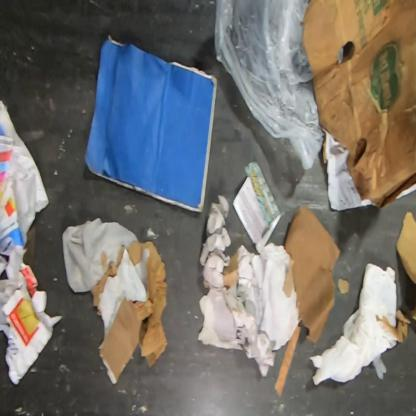cardboard: (80, 31, 218, 216), (303, 0, 415, 209), (223, 205, 341, 397), (90, 241, 168, 386), (374, 211, 415, 344), (337, 277, 350, 294)
soft_plastic: (214, 0, 325, 171)
